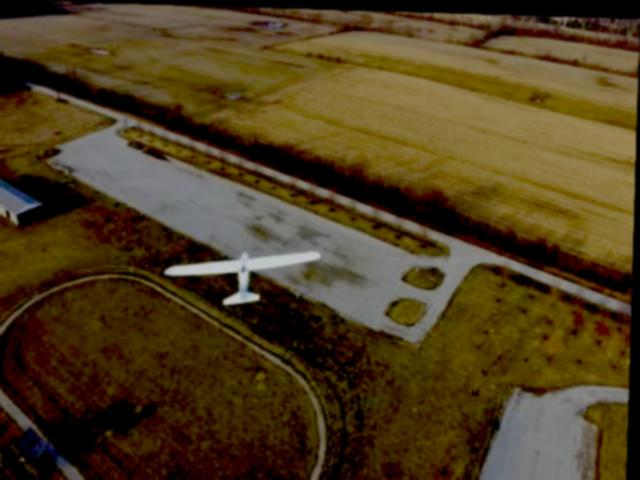uav: (156, 224, 330, 324)
